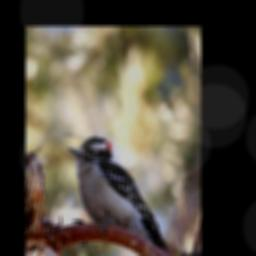Woodpecker: (66, 137, 170, 256)
